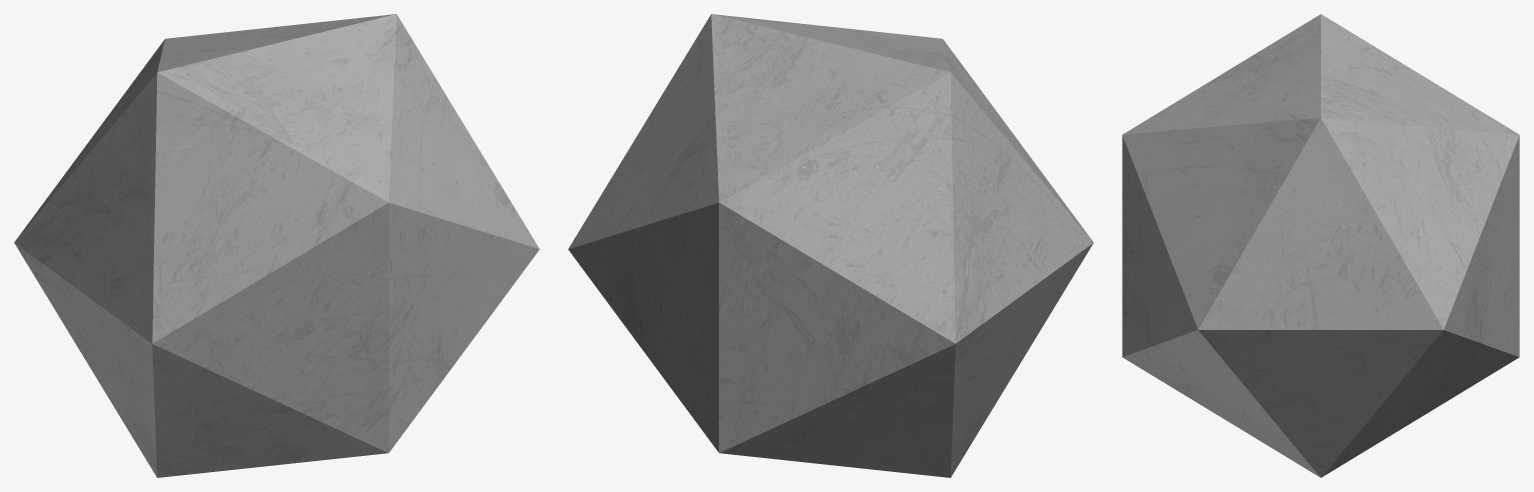
File: Platonic.glb
3 renders of one model, left to right at view 1: azimuth 30°, elevation 25°; view 2: azimuth 150°, elevation 25°; view 3: azimuth 270°, elevation 25°, orthographic. The views are drawn at different scales.
Visible parts, largest first — view 1: Platonic; view 2: Platonic; view 3: Platonic.
Part boxes in pixels (x1,y1,x2,y2): Platonic: (14, 14, 539, 477); Platonic: (568, 14, 1093, 477); Platonic: (1122, 14, 1519, 477).
Size of the model in its own units: 1.7 by 1.7 by 1.7.
1 material, 1 textured.
